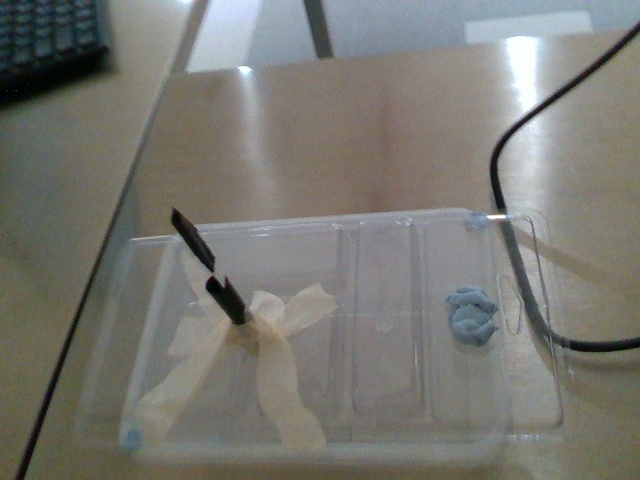test_strip: (168, 207, 223, 287)
